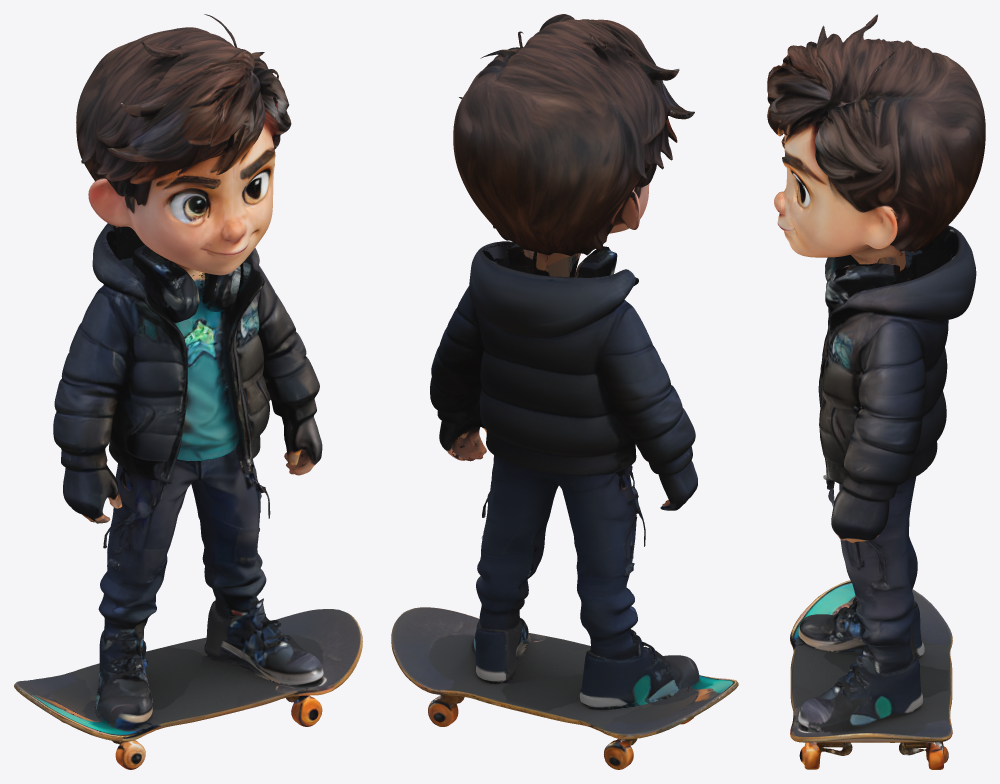
The model's file is player_game.glb.
3 renders of one model, left to right at view 1: azimuth 30°, elevation 25°; view 2: azimuth 150°, elevation 25°; view 3: azimuth 270°, elevation 25°, orthographic.
Parts seen in each view (by area): view 1: model; view 2: model; view 3: model.
Part boxes in pixels (box(x1,y1,x2,y2)): model: box(14, 14, 362, 769); model: box(391, 14, 738, 769); model: box(767, 14, 985, 769).
Bounding box in the file's own units: 0.9344 × 1.9 × 0.5453.
1 material, 1 textured.
